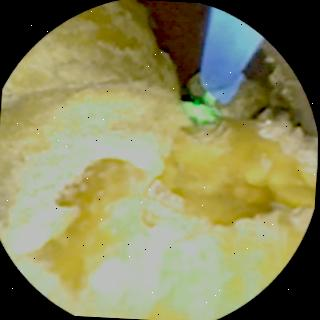fiber: (202, 9, 262, 102)
laser: (186, 100, 214, 120)
stone: (0, 0, 317, 320)
